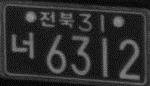1: (101, 36, 108, 78), (98, 13, 106, 34)
2: (117, 38, 142, 82)
3: (70, 35, 92, 74), (77, 12, 91, 31)
6: (46, 34, 67, 74)
너: (10, 30, 34, 60)
전북_O: (39, 10, 74, 28)
